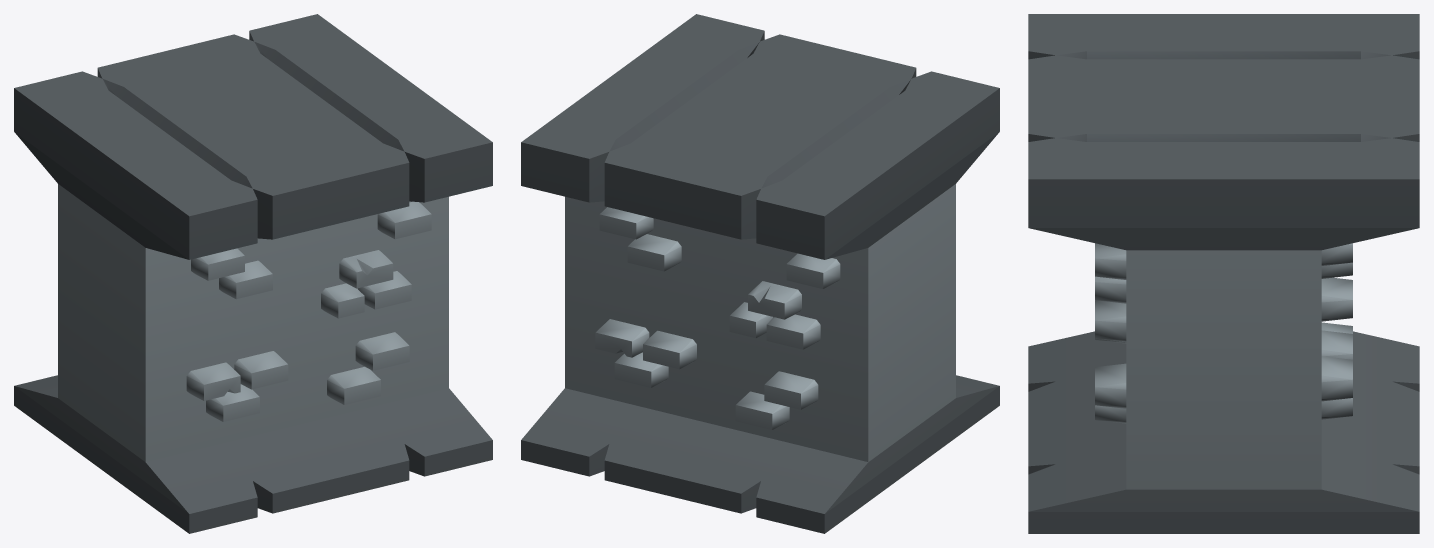
File: wall.glb
3 views of the same model, side by side, from view 1: azimuth 30°, elevation 25°; view 2: azimuth 150°, elevation 25°; view 3: azimuth 270°, elevation 25° (orthographic). The views are drawn at different scales.
Visible parts, largest first — view 1: wall; view 2: wall; view 3: wall.
Boxes of the visible parts, box(x1,y1,x2,y2) form: wall: box(14, 14, 492, 533); wall: box(521, 14, 999, 533); wall: box(1028, 14, 1419, 533).
Size of the model in its own units: 1 by 1 by 1.
Materials: 1 (1 with a texture image).
